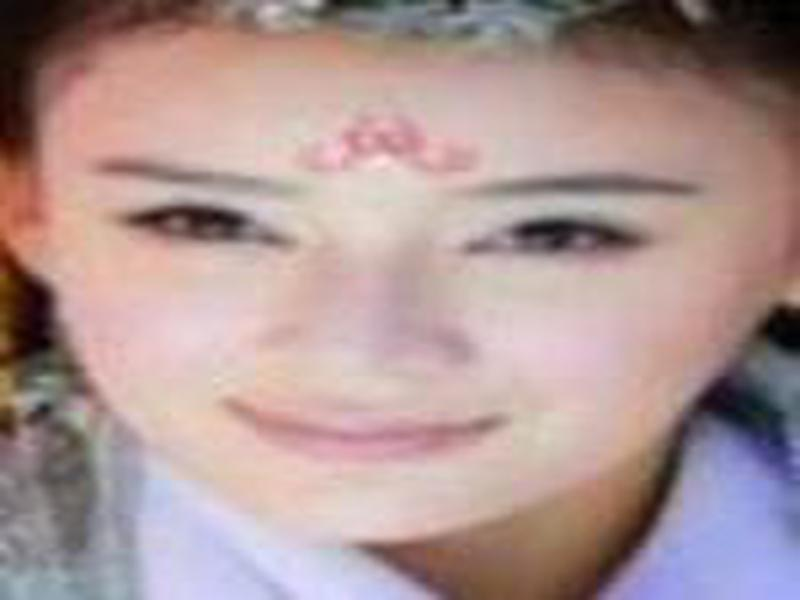without_mask: (23, 25, 774, 551)
